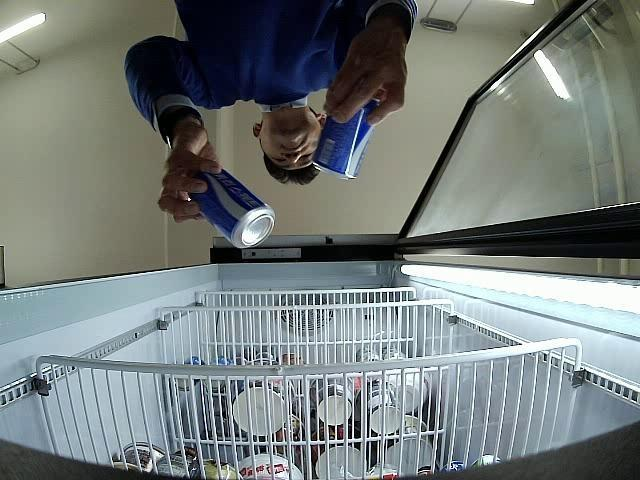13_pocariSweat: (188, 168, 275, 248), (311, 99, 379, 181)
